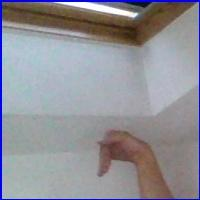del: (95, 126, 153, 183)
